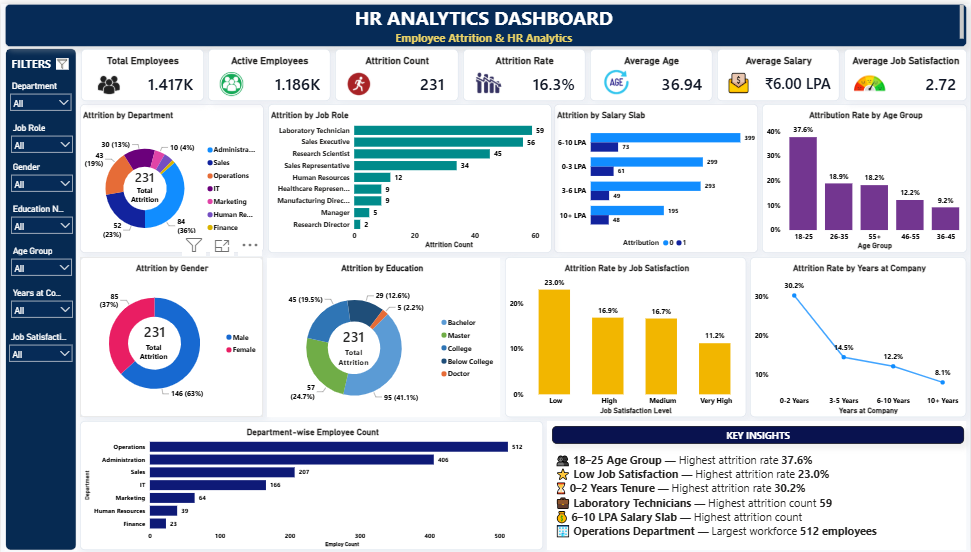

What the dashboard file says about the page in this screenshot:
{"tool":"powerbi","page":{"name":"Page 1","canvas":[1900,1076],"ordinal":0},"visuals":[{"type":"donutChart","title":"Attrition by Department ","fields":{"Category":["HR_Analytics-4 (2).Department"],"Y":["Sum(HR_Analytics-4 (2).Attribution Count )"]},"box":[155.3,196.1,359.6,292.2],"z":0},{"type":"donutChart","title":"Attrition by Gender","fields":{"Category":["HR_Analytics-4 (2).Gender"],"Y":["Sum(HR_Analytics-4 (2).Attribution Count )"],"Series":["HR_Analytics-4 (2).Attribution Count "]},"box":[155.1,495.9,359.2,314.3],"z":1000},{"type":"shape","box":[8.2,85.7,140.8,985.7],"z":2000},{"type":"textbox","box":[8.2,0,1885.7,83.8],"z":3000},{"type":"cardVisual","title":"Total Employees","fields":{"Data":["CountNonNull(HR_Analytics-4 (2).EmpID)"]},"box":[156.8,88.6,240.9,102.3],"z":4000},{"type":"cardVisual","title":"Active Employees","fields":{"Data":["CountNonNull(HR_Analytics-4 (2).EmployeeCount)"]},"box":[406.5,88.7,240.3,101.6],"z":5000},{"type":"cardVisual","title":"Attrition Count","fields":{"Data":["Sum(HR_Analytics-4 (2).AttributionCount )"]},"box":[654.8,88.7,241.9,101.6],"z":6000},{"type":"cardVisual","title":"Attrition Rate","fields":{"Data":["HR_Analytics-4 (2).Attribution Rate %"]},"box":[906.7,88.9,240,102.2],"z":7000},{"type":"cardVisual","title":"Average Age","fields":{"Data":["Avg(HR_Analytics-4 (2).Age)"]},"box":[1155.6,88.9,240,102.2],"z":8000},{"type":"cardVisual","title":"Average Salary","fields":{"Data":["HR_Analytics-4 (2).Average Salary LPA"]},"box":[1404,89,240,102],"z":9000},{"type":"image","box":[1418.4,124.5,57.1,63.3],"z":10000},{"type":"image","box":[1138.8,120.4,134.7,67.3],"z":11000},{"type":"image","box":[881.8,115.9,147.7,88.6],"z":12000},{"type":"image","box":[647.7,131.8,109.1,54.5],"z":13000},{"type":"image","box":[172.7,136.4,77.3,43.2],"z":14000},{"type":"image","box":[402.3,134.1,100,47.7],"z":15000},{"type":"clusteredBarChart","title":"Attrition by Salary Slab","fields":{"Category":["HR_Analytics-4 (2).Salary Slab"],"Y":["CountNonNull(HR_Analytics-4 (2).Emp_ID)"],"Series":["HR_Analytics-4 (2).Attribution Count "]},"box":[1084.8,196.1,400.4,292.2],"z":16000},{"type":"clusteredBarChart","fields":{"Y":["Sum(HR_Analytics-4 (2).Attribution Count )"],"Category":["HR_Analytics-4 (2).Job Role"]},"box":[523,196.1,555.7,292.2],"z":17000},{"type":"columnChart","title":"Attribution Rate  by Age Group","fields":{"Category":["HR_Analytics-4 (2).Age Group"],"Y":["HR_Analytics-4 (2).Attribution Rate %"]},"box":[1491.4,196.1,402.5,292.2],"z":18000},{"type":"slicer","fields":{"Values":["HR_Analytics-4 (2).Department"]},"box":[8.2,144.9,134.7,77.6],"z":19000},{"type":"textbox","box":[12.4,97.4,120.5,39],"z":20000},{"type":"image","box":[108.1,106.3,24.8,23],"z":21000},{"type":"slicer","fields":{"Values":["HR_Analytics-4 (2).Job Role"]},"box":[9.1,227.3,140.9,70.5],"z":22000},{"type":"slicer","fields":{"Values":["HR_Analytics-4 (2).Gender"]},"box":[9.1,304.5,140.9,81.8],"z":23000},{"type":"slicer","title":"Education ","fields":{"Values":["HR_Analytics-4 (2).Education Name"]},"box":[9.1,386.4,140.9,81.8],"z":24000},{"type":"slicer","fields":{"Values":["HR_Analytics-4 (2).Age Group"]},"box":[9.1,468.2,134.1,77.3],"z":25000},{"type":"slicer","fields":{"Values":["HR_Analytics-4 (2).Years at Company"]},"box":[9.1,550,140.9,81.8],"z":26000},{"type":"slicer","fields":{"Values":["HR_Analytics-4 (2).Job Satisfaction Name"]},"box":[6.8,636.4,138.6,77.3],"z":27000},{"type":"donutChart","title":"Attrition by Education","fields":{"Y":["Sum(HR_Analytics-4 (2).Attribution Count )"],"Category":["HR_Analytics-4 (2).Education Name"]},"box":[522.4,498,457.1,312.2],"z":28000},{"type":"cardVisual","fields":{"Data":["Sum(HR_Analytics-4 (2).Attribution Count )"]},"box":[638.8,618,104.1,67.3],"z":29000},{"type":"textbox","box":[657,670,69,51],"z":30000},{"type":"clusteredColumnChart","title":"Attrition Rate by Job Satisfaction","fields":{"Category":["HR_Analytics-4 (2).Job Satisfaction Name"],"Y":["HR_Analytics-4 (2).Attribution Rate %"]},"box":[987.8,495.9,473.5,314.3],"z":31000},{"type":"lineChart","title":"Attrition Rate  by Years at Company ","fields":{"Y":["HR_Analytics-4 (2).Attribution Rate %"],"Category":["HR_Analytics-4 (2).Years at Company Group"]},"box":[1469.4,495.9,424.5,314.3],"z":32000},{"type":"clusteredBarChart","title":"Department-wise Employee Count ","fields":{"Category":["HR_Analytics-4 (2).Department"],"Y":["Sum(HR_Analytics-4 (2).Employee Count)"]},"box":[155.1,818.4,908.2,253.1],"z":33000},{"type":"textbox","box":[1071.4,818.4,822.4,253.1],"z":34000},{"type":"textbox","box":[1081,828,808,34.7],"z":35000},{"type":"cardVisual","title":"Average Job Satisfaction","fields":{"Data":["Avg(HR_Analytics-4 (2).Job Satisfaction)"]},"box":[1653.1,87.8,240.8,102],"z":36000},{"type":"image","box":[1661.2,118.4,83.7,73.5],"z":37000},{"type":"textbox","box":[265.3,662,69,51],"z":38000},{"type":"cardVisual","fields":{"Data":["Sum(HR_Analytics-4 (2).Attribution Count )"]},"box":[249,608,104.1,67.3],"z":39000},{"type":"cardVisual","fields":{"Data":["Sum(HR_Analytics-4 (2).Attribution Count )"]},"box":[230,304,104,67],"z":40000},{"type":"textbox","box":[249,355,65.4,47],"z":41000}]}

Visuals, with their boxes in screenshot pixels (x1, y1, x2, y2), scaled from the page's 1900x1076 canvas onto the 971x552 screenshot:
"Attrition by Department " donutChart: region(79, 101, 263, 251)
"Attrition by Gender" donutChart: region(79, 254, 263, 416)
shape: region(4, 44, 76, 550)
textbox: region(4, 0, 968, 43)
"Total Employees" cardVisual: region(80, 45, 203, 98)
"Active Employees" cardVisual: region(208, 46, 331, 98)
"Attrition Count" cardVisual: region(335, 46, 458, 98)
"Attrition Rate" cardVisual: region(463, 46, 586, 98)
"Average Age" cardVisual: region(591, 46, 713, 98)
"Average Salary" cardVisual: region(718, 46, 840, 98)
image: region(725, 64, 754, 96)
image: region(582, 62, 651, 96)
image: region(451, 59, 526, 105)
image: region(331, 68, 387, 96)
image: region(88, 70, 128, 92)
image: region(206, 69, 257, 93)
"Attrition by Salary Slab" clusteredBarChart: region(554, 101, 759, 251)
clusteredBarChart - Sum(HR_Analytics-4 (2).Attribution Count ) x HR_Analytics-4 (2).Job Role: region(267, 101, 551, 251)
"Attribution Rate  by Age Group" columnChart: region(762, 101, 968, 251)
slicer - HR_Analytics-4 (2).Department: region(4, 74, 73, 114)
textbox: region(6, 50, 68, 70)
image: region(55, 55, 68, 66)
slicer - HR_Analytics-4 (2).Job Role: region(5, 117, 77, 153)
slicer - HR_Analytics-4 (2).Gender: region(5, 156, 77, 198)
"Education " slicer: region(5, 198, 77, 240)
slicer - HR_Analytics-4 (2).Age Group: region(5, 240, 73, 280)
slicer - HR_Analytics-4 (2).Years at Company: region(5, 282, 77, 324)
slicer - HR_Analytics-4 (2).Job Satisfaction Name: region(3, 326, 74, 366)
"Attrition by Education" donutChart: region(267, 255, 501, 416)
cardVisual - Sum(HR_Analytics-4 (2).Attribution Count ): region(326, 317, 380, 352)
textbox: region(336, 344, 371, 370)
"Attrition Rate by Job Satisfaction" clusteredColumnChart: region(505, 254, 747, 416)
"Attrition Rate  by Years at Company " lineChart: region(751, 254, 968, 416)
"Department-wise Employee Count " clusteredBarChart: region(79, 420, 543, 550)
textbox: region(548, 420, 968, 550)
textbox: region(552, 425, 965, 443)
"Average Job Satisfaction" cardVisual: region(845, 45, 968, 97)
image: region(849, 61, 892, 98)
textbox: region(136, 340, 171, 366)
cardVisual - Sum(HR_Analytics-4 (2).Attribution Count ): region(127, 312, 180, 346)
cardVisual - Sum(HR_Analytics-4 (2).Attribution Count ): region(118, 156, 171, 190)
textbox: region(127, 182, 161, 206)
